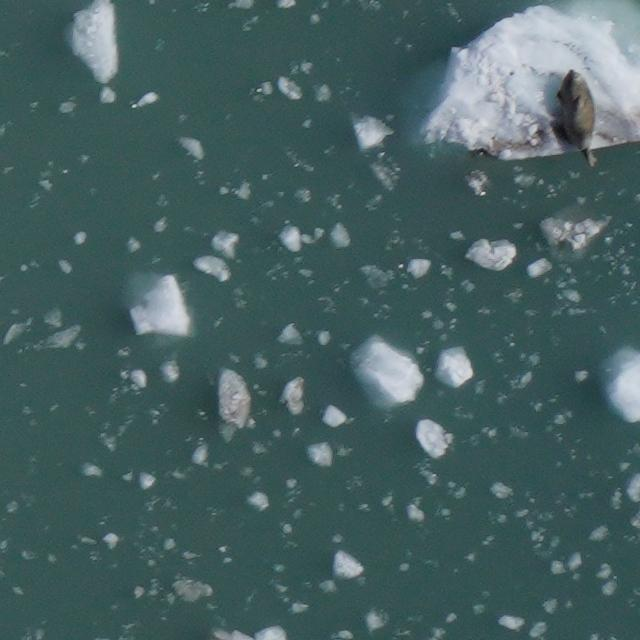seal: (553, 67, 603, 172)
